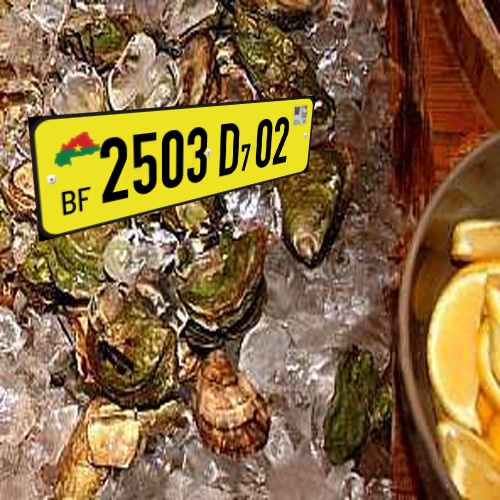plate: (18, 93, 321, 248)
